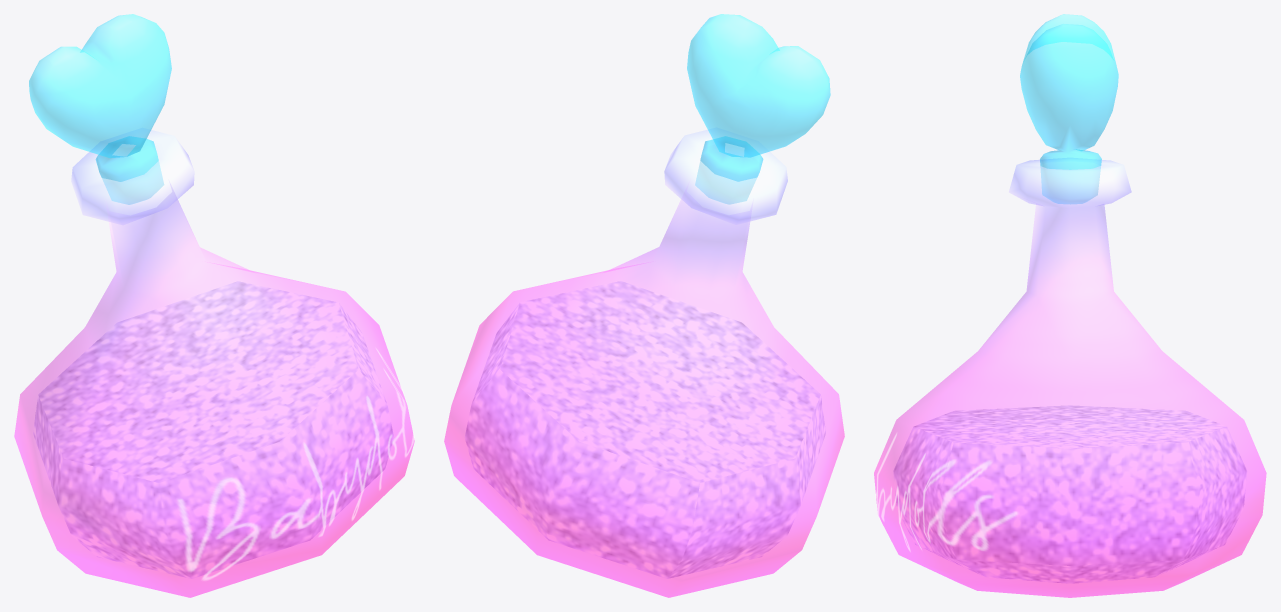
File: track6Boost.glb
3 renders of one model, left to right at view 1: azimuth 30°, elevation 25°; view 2: azimuth 150°, elevation 25°; view 3: azimuth 270°, elevation 25°, orthographic. The views are drawn at different scales.
Visible parts, largest first — view 1: Cube.049; view 2: Cube.049; view 3: Cube.049.
Part boxes in pixels (<box>): Cube.049: <box>14,14,414,597</box>; Cube.049: <box>444,14,844,597</box>; Cube.049: <box>874,14,1266,597</box>.
Bounding box in the file's own units: 0.5246 × 0.7836 × 0.5237.
1 material, 1 textured.
